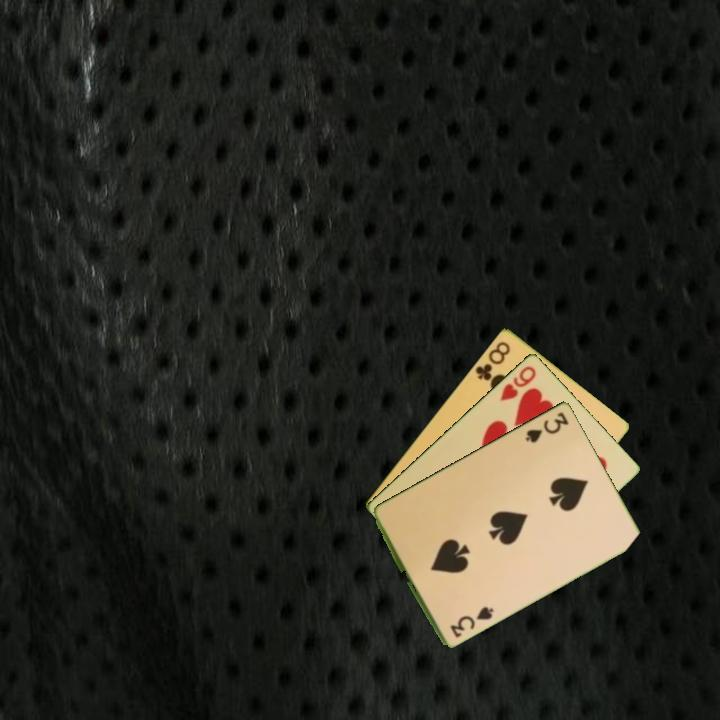3s: (522, 408, 572, 445), (447, 602, 495, 640)
8c: (472, 337, 513, 386)
9h: (496, 362, 539, 404)
